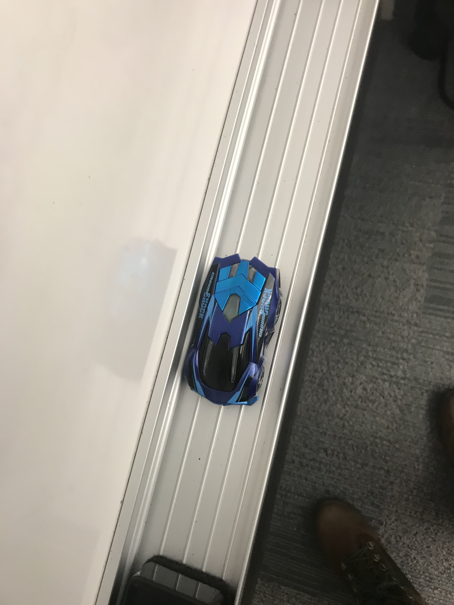Shock: (181, 252, 284, 408)
